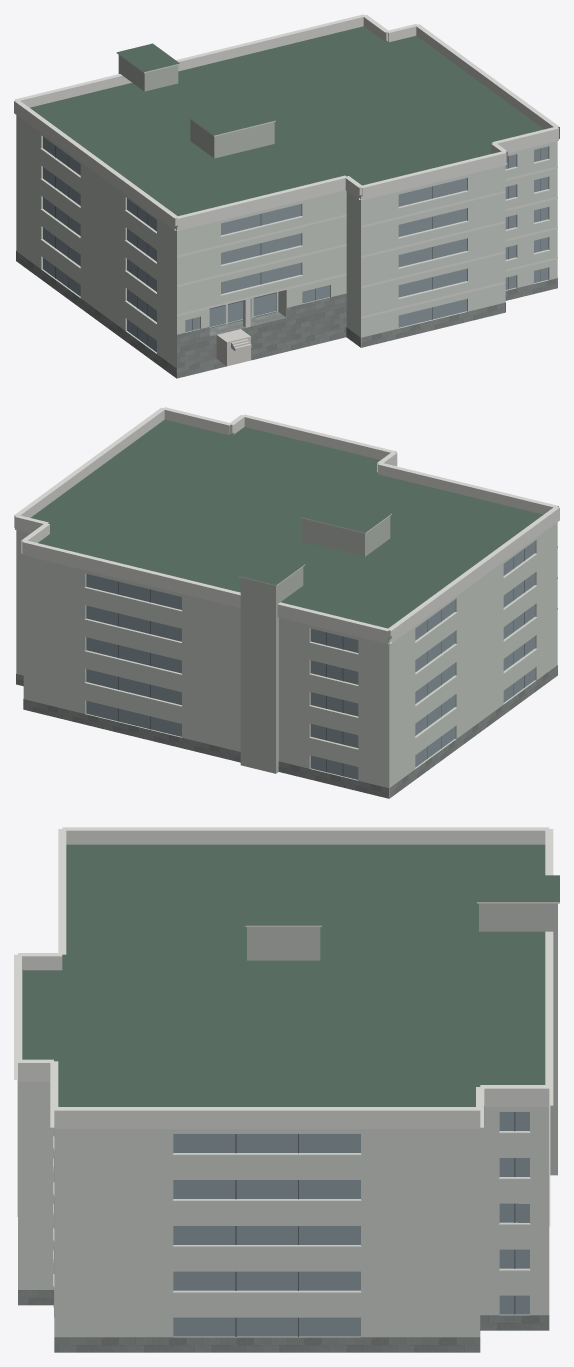
3 views of the same model, one above another, from view 1: azimuth 30°, elevation 25°; view 2: azimuth 150°, elevation 25°; view 3: azimuth 270°, elevation 25° (orthographic). The views are drawn at different scales.
Parts seen in each view (by area): view 1: b201__wall, b201__roof, b201__trim, b201__glass, b201__base, b201__wall2, b201__entranceStair, b201__frame; view 2: b201__wall, b201__roof, b201__trim, b201__glass, b201__wall2, b201__base, b201__frame; view 3: b201__roof, b201__wall, b201__trim, b201__glass, b201__base, b201__wall2.
Boxes of the visible parts, x1,y1,x2,y2 form: b201__wall: (16,115,557,377); b201__roof: (30,26,543,378); b201__trim: (14,14,559,324); b201__glass: (43,137,548,352); b201__base: (16,251,557,378); b201__wall2: (118,55,274,158); b201__entranceStair: (216,329,251,366); b201__frame: (55,146,540,345); b201__wall: (16,522,557,798); b201__roof: (30,419,543,798); b201__trim: (14,407,559,749); b201__glass: (86,541,534,779); b201__wall2: (240,516,390,773); b201__base: (16,665,557,798); b201__frame: (118,549,524,776); b201__roof: (22,844,559,1106); b201__wall: (18,1081,549,1337); b201__trim: (14,827,559,1307); b201__glass: (173,1112,529,1336); b201__base: (18,1290,549,1352); b201__wall2: (247,903,557,1175).
Bounding box in the file's own units: 47.68 × 21.53 × 38.82.
Materials: 10 (1 with a texture image).
